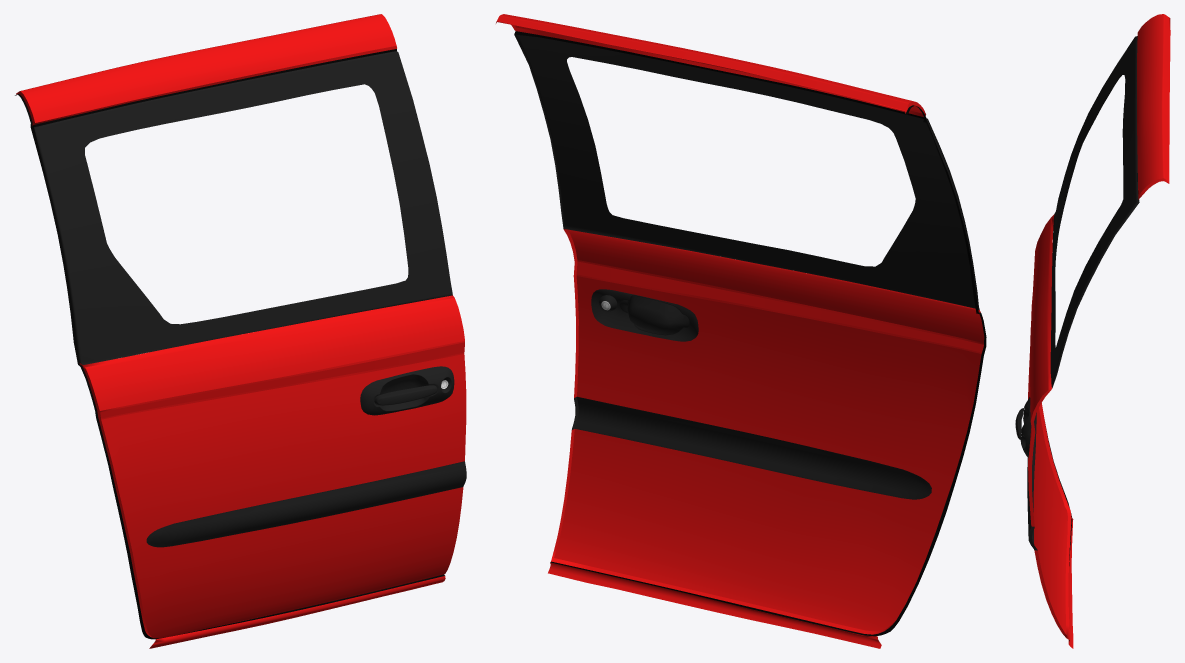
3 views of the same model, side by side, from view 1: azimuth 30°, elevation 25°; view 2: azimuth 150°, elevation 25°; view 3: azimuth 270°, elevation 25° (orthographic). The views are drawn at different scales.
Visible parts, largest first — view 1: N664_9A_321B_R_1_DaS_N664_9A_321B_R, N664_9A_321B_R_N664_9A_321B_R_2_D, N664_9A_321B_R_1_DaS_N664_9A_321B_R_E, N664_9A_321B_R_N664_9A_321B_R_4_D; view 2: N664_9A_321B_R_1_DaS_N664_9A_321B_R, N664_9A_321B_R_N664_9A_321B_R_2_D, N664_9A_321B_R_1_DaS_N664_9A_321B_R_E, N664_9A_321B_R_N664_9A_321B_R_4_D; view 3: N664_9A_321B_R_1_DaS_N664_9A_321B_R, N664_9A_321B_R_N664_9A_321B_R_2_D, N664_9A_321B_R_1_DaS_N664_9A_321B_R_E.
Part boxes in pixels (box(x1,y1,x2,y2)): N664_9A_321B_R_1_DaS_N664_9A_321B_R: box(20, 14, 466, 648); N664_9A_321B_R_N664_9A_321B_R_2_D: box(34, 51, 466, 547); N664_9A_321B_R_1_DaS_N664_9A_321B_R_E: box(16, 46, 464, 637); N664_9A_321B_R_N664_9A_321B_R_4_D: box(15, 49, 444, 639); N664_9A_321B_R_1_DaS_N664_9A_321B_R: box(497, 14, 984, 648); N664_9A_321B_R_N664_9A_321B_R_2_D: box(514, 34, 979, 499); N664_9A_321B_R_1_DaS_N664_9A_321B_R_E: box(496, 21, 983, 634); N664_9A_321B_R_N664_9A_321B_R_4_D: box(514, 31, 986, 636); N664_9A_321B_R_1_DaS_N664_9A_321B_R: box(1028, 14, 1169, 648); N664_9A_321B_R_N664_9A_321B_R_2_D: box(1015, 36, 1139, 550); N664_9A_321B_R_1_DaS_N664_9A_321B_R_E: box(1028, 18, 1170, 639).
Size of the model in its own units: 101 by 140 by 41.42.
